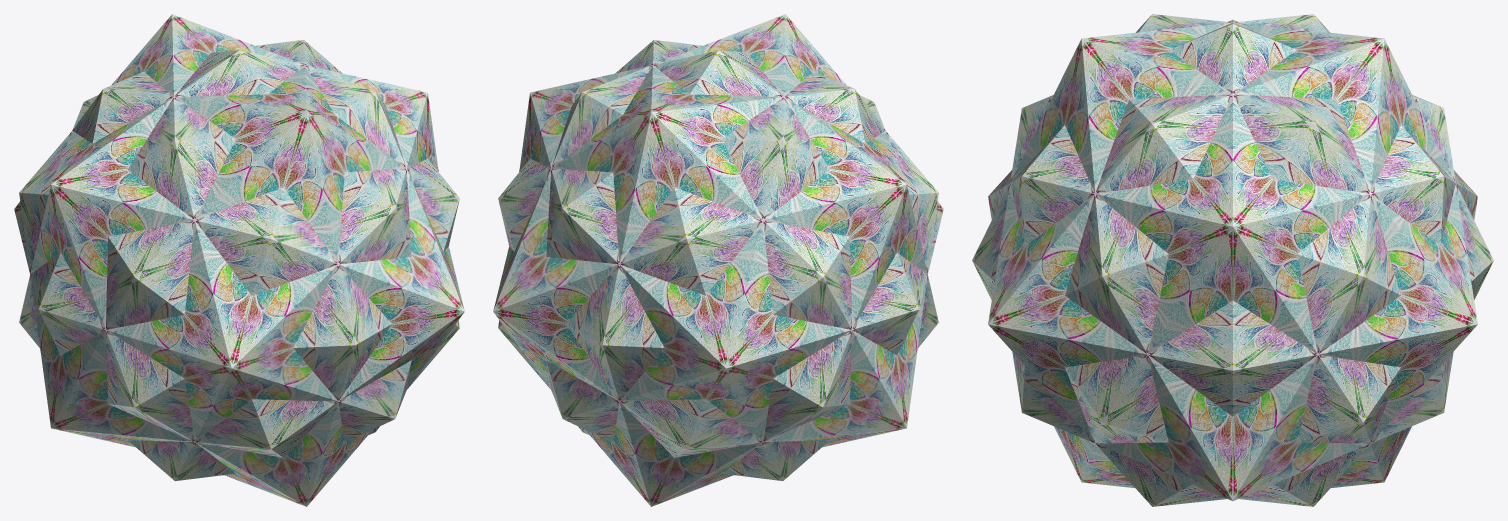
The model's file is MedialDeltoidalHexecontahedron8.obj.
3 renders of one model, left to right at view 1: azimuth 30°, elevation 25°; view 2: azimuth 150°, elevation 25°; view 3: azimuth 270°, elevation 25°, orthographic. The views are drawn at different scales.
Size of the model in its own units: 2.68 by 2.68 by 2.68.
Materials: 1 (1 with a texture image).
